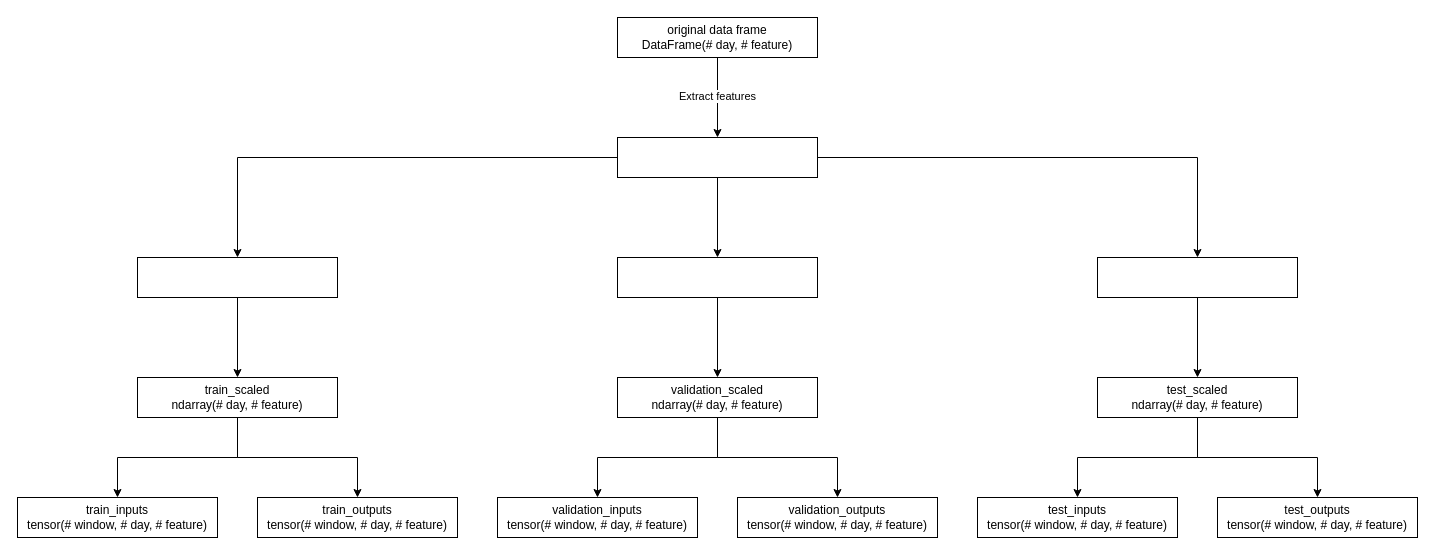
Image size: 1435x555. Some labels were removed from this diagram. Here are the shapes that lost their labels. From the top down, the box of each, then its label:
(616, 136, 818, 178): extracted data frame DataFrame(# day, # feature)
(136, 256, 338, 298): train_set ndarray(# day, # feature)
(616, 256, 818, 298): validation_set ndarray(# day, # feature)
(1096, 256, 1298, 298): test_set ndarray(# day, # feature)
